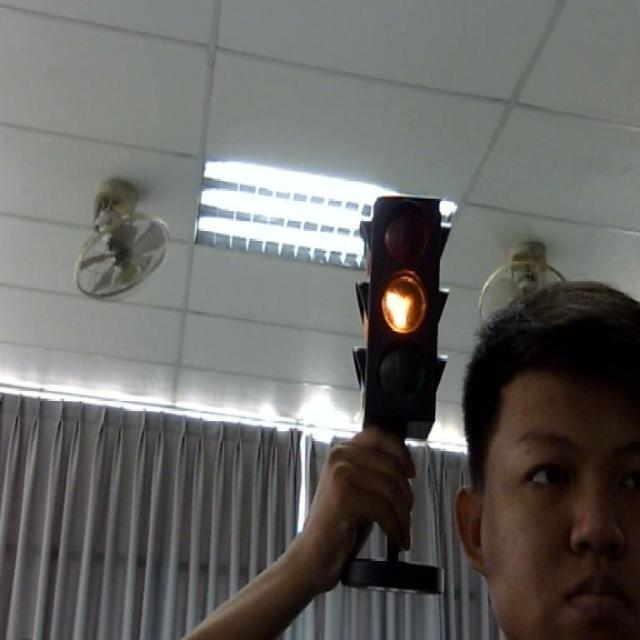yellow_light: (359, 194, 446, 436)
